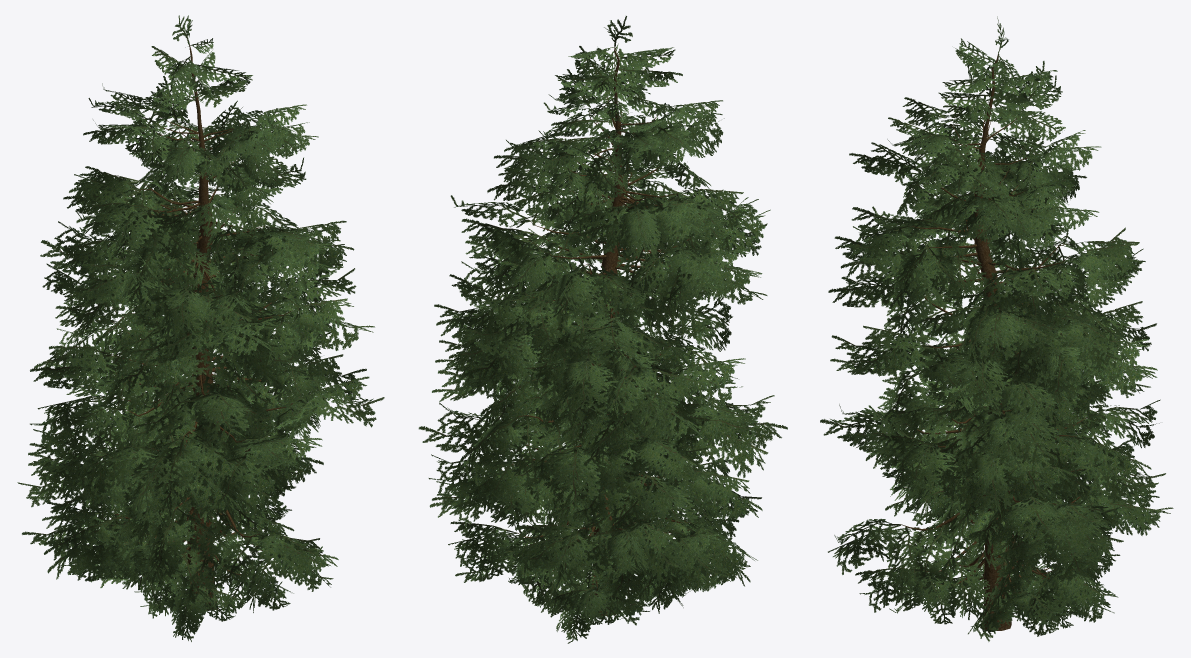
The model's file is fir1_l0.glb.
3 views of the same model, side by side, from view 1: azimuth 30°, elevation 25°; view 2: azimuth 150°, elevation 25°; view 3: azimuth 270°, elevation 25° (orthographic).
Visible parts, largest first — view 1: Christmas tree_LOD0_Brunches_Mat_0, Christmas tree_LOD0_Bark_Mat_0; view 2: Christmas tree_LOD0_Brunches_Mat_0, Christmas tree_LOD0_Bark_Mat_0; view 3: Christmas tree_LOD0_Brunches_Mat_0, Christmas tree_LOD0_Bark_Mat_0.
Part boxes in pixels (x1,y1,x2,y2): Christmas tree_LOD0_Brunches_Mat_0: (17, 15, 384, 641); Christmas tree_LOD0_Bark_Mat_0: (111, 44, 296, 610); Christmas tree_LOD0_Brunches_Mat_0: (418, 16, 787, 643); Christmas tree_LOD0_Bark_Mat_0: (511, 46, 690, 615); Christmas tree_LOD0_Brunches_Mat_0: (820, 16, 1173, 641); Christmas tree_LOD0_Bark_Mat_0: (900, 54, 1092, 630).
Bounding box in the file's own units: 13.65 × 24 × 13.
2 materials, 2 textured.
